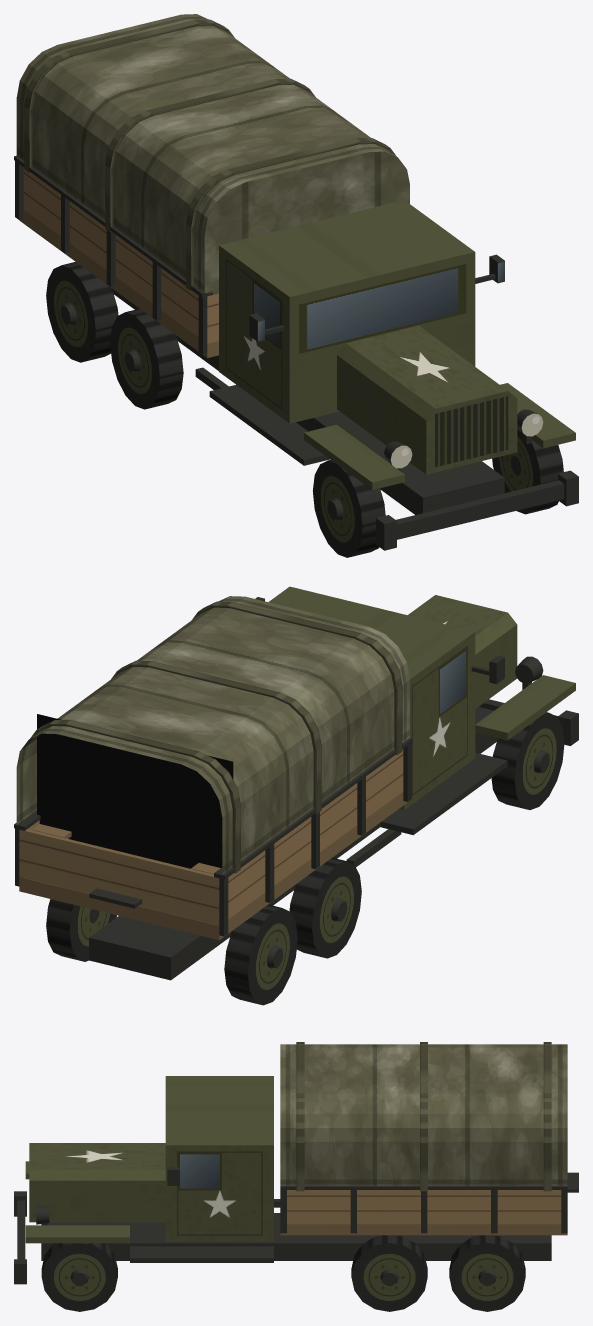
Rendered from landTransport.glb.
3 views of the same model, one above another, from view 1: azimuth 30°, elevation 25°; view 2: azimuth 150°, elevation 25°; view 3: azimuth 270°, elevation 25° (orthographic). The views are drawn at different scales.
Visible parts, largest first — view 1: body, tarp, roue_right_2, roue_right_3, roue_right_1, roue_left_1; view 2: tarp, body, fond_sombre, tailgate, roue_right_3, roue_right_2, roue_right_1, roue_left_3; view 3: body, tarp, roue_left_2, roue_left_3, roue_left_1.
Part boxes in pixels (x1,y1,x2,y2): body: (14,155,578,550); tarp: (16,14,409,294); roue_right_2: (110,308,183,409); roue_right_3: (46,262,118,362); roue_right_1: (313,460,385,557); roue_left_1: (492,430,563,514); tarp: (16,596,409,874); body: (14,586,578,980); fond_sombre: (37,714,233,868); tailgate: (19,829,219,925); roue_right_3: (224,904,297,1005); roue_right_2: (289,857,361,958); roue_right_1: (491,712,564,809); roue_left_3: (46,899,116,961); body: (14,1076,567,1284); tarp: (280,1042,567,1191); roue_left_2: (351,1235,427,1311); roue_left_3: (449,1235,525,1311); roue_left_1: (41,1243,117,1311).
Size of the model in its own units: 2.72 by 2.82 by 7.04.
Materials: 8 (7 with a texture image).
